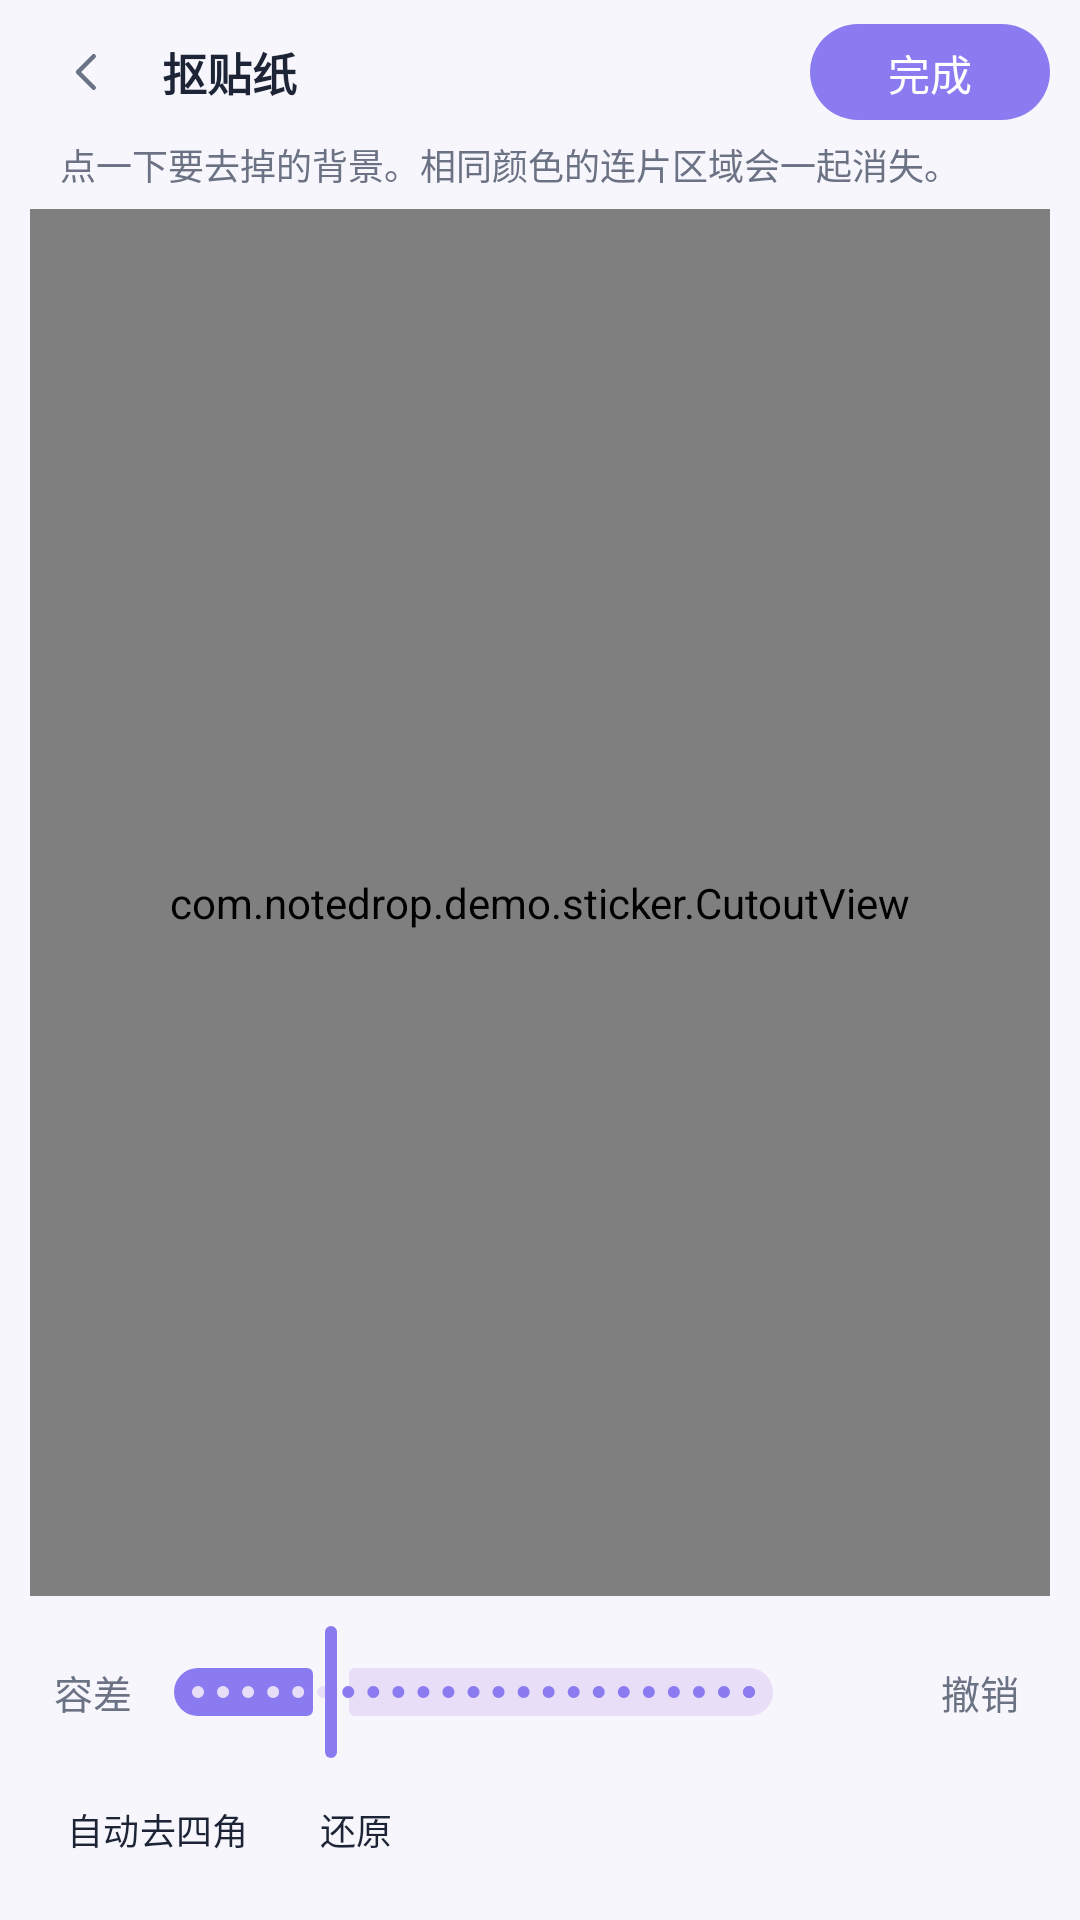

Where icons sit on this 1080*1920 app screen, as detection(x1, y1, x2, y2):
返回: detection(76, 54, 96, 90)
